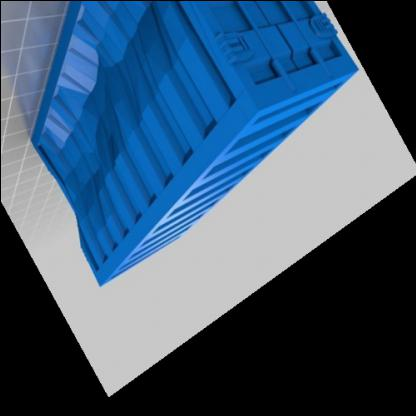Damage: (66, 16, 146, 196)
